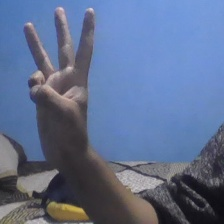W: (18, 3, 99, 171)
